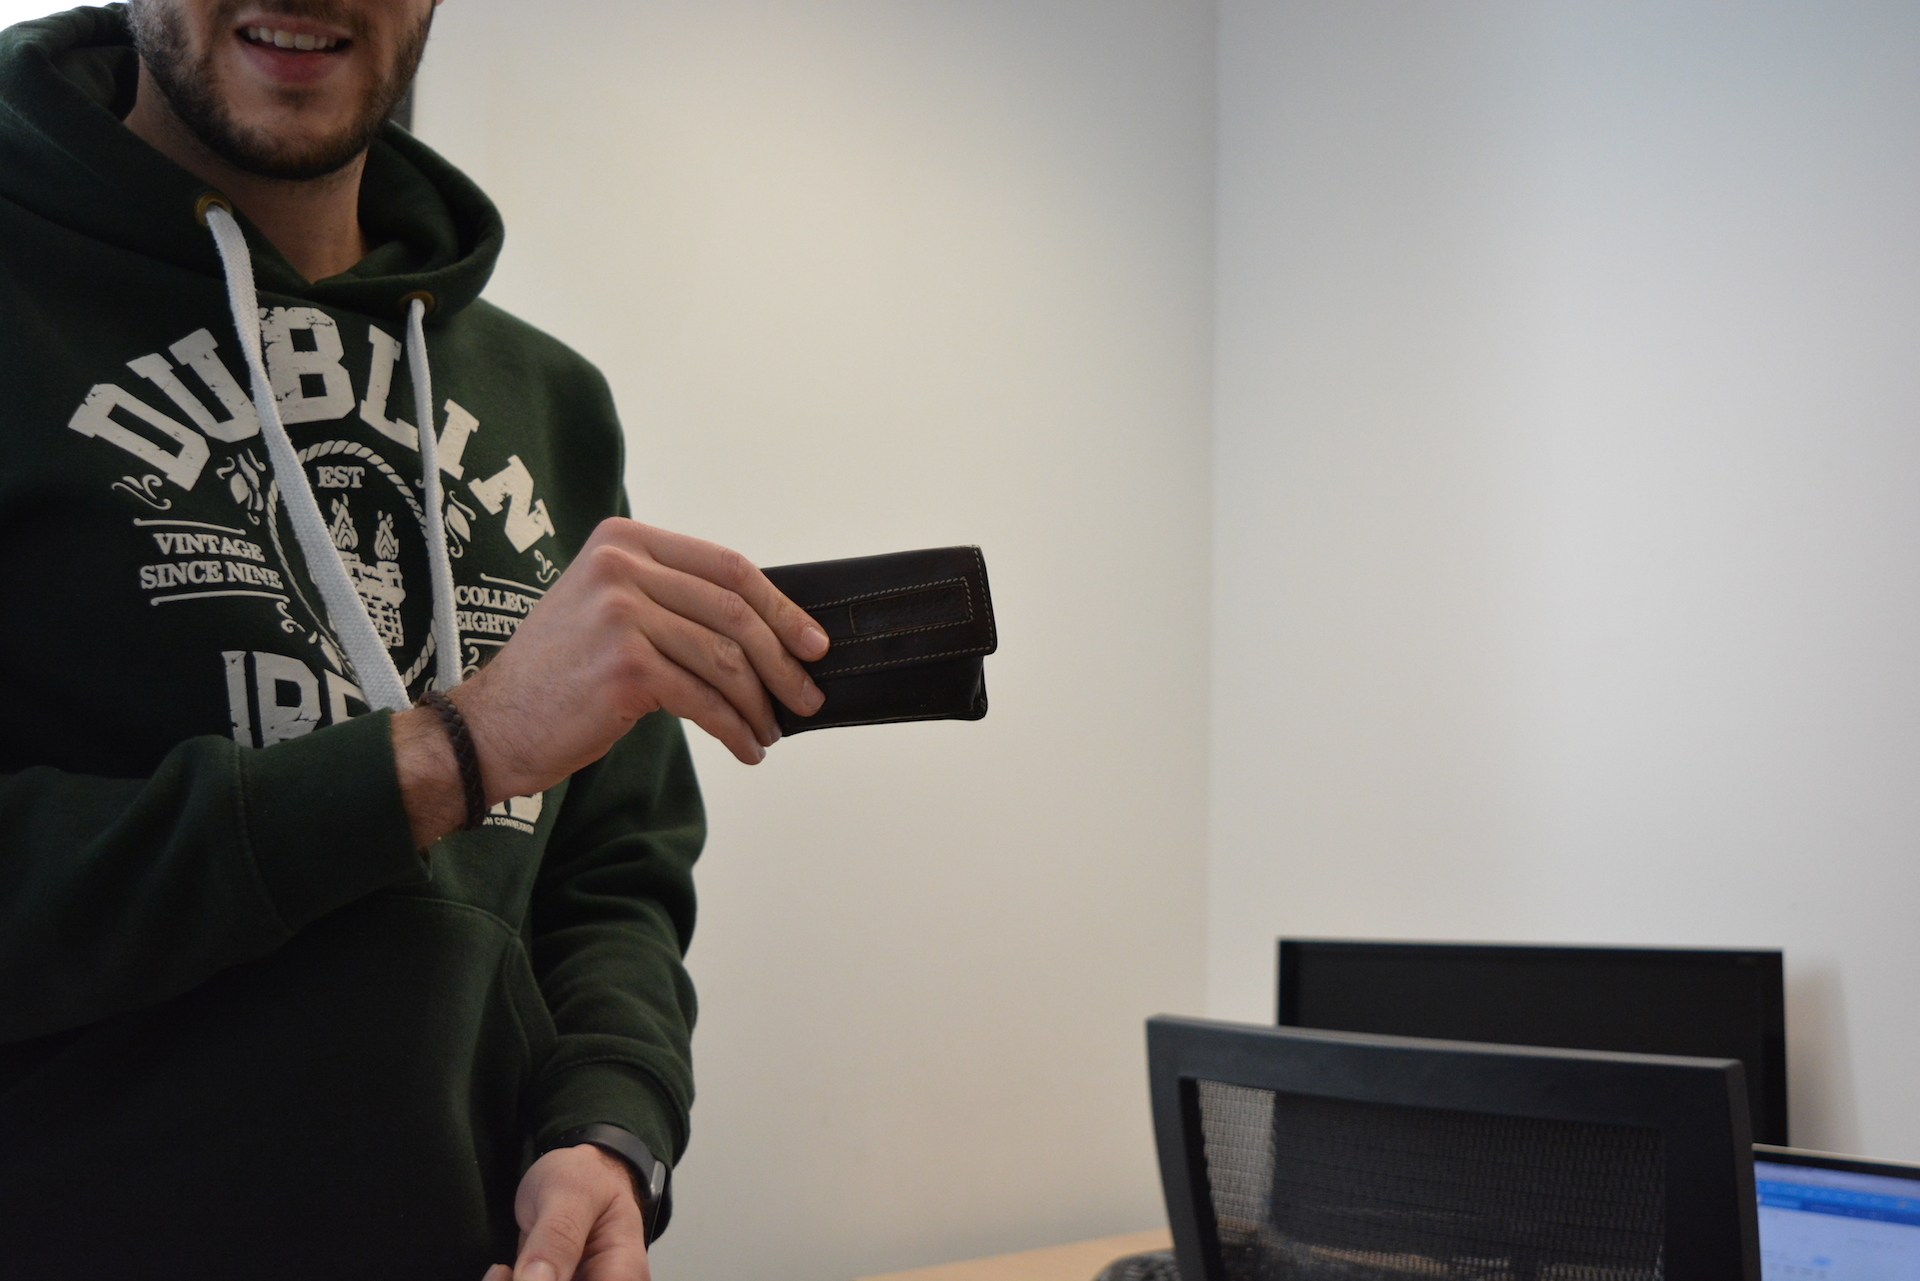monedero: (758, 543, 999, 742)
